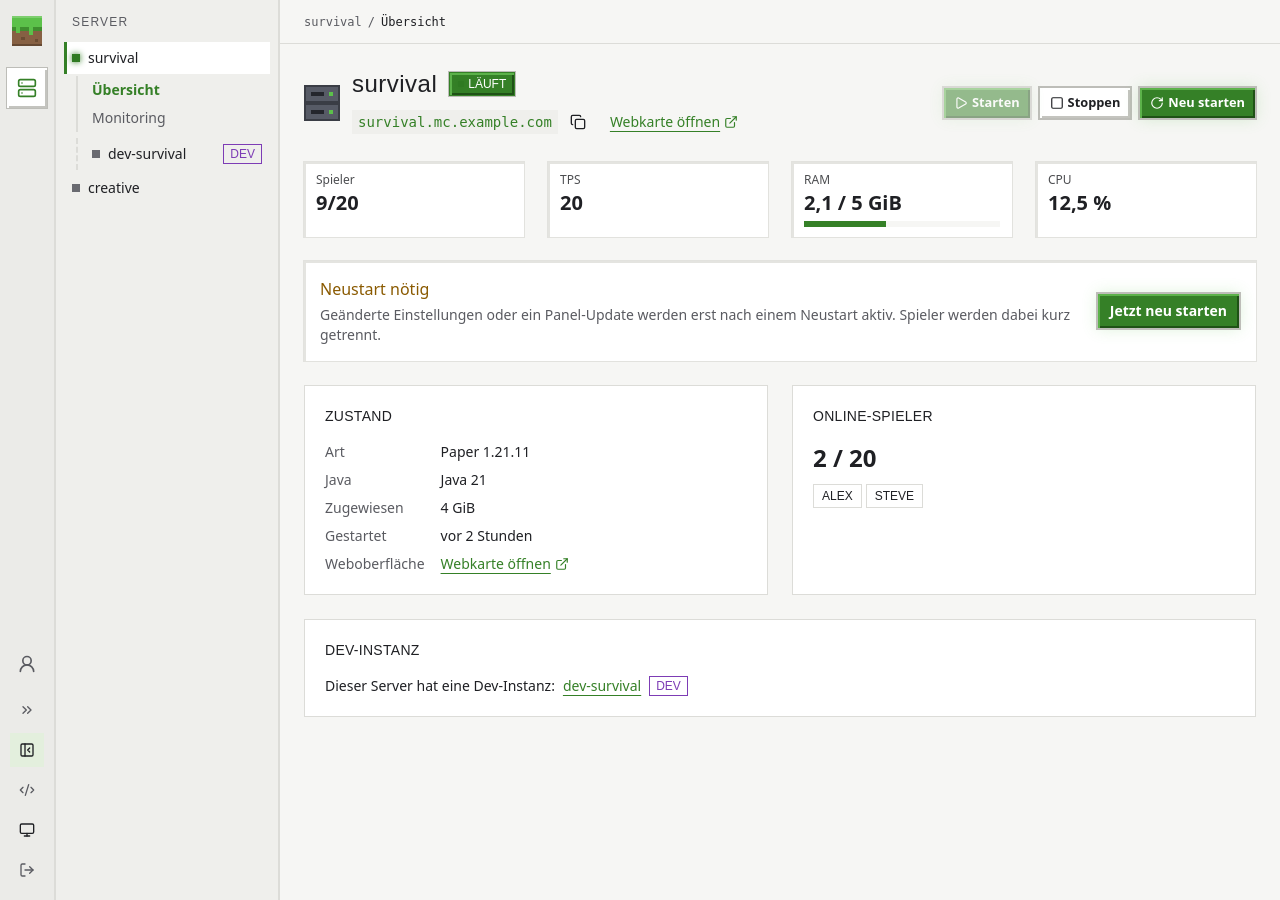
Test: ServerLayout › offers a restart while changes are pending and clears the banner afterwards
Expected: the text "Neustart nötig" is shown, [320, 278, 429, 300]
Click the button "Jetzt neu starten".
click(1168, 311)  # box [1097, 293, 1240, 329]
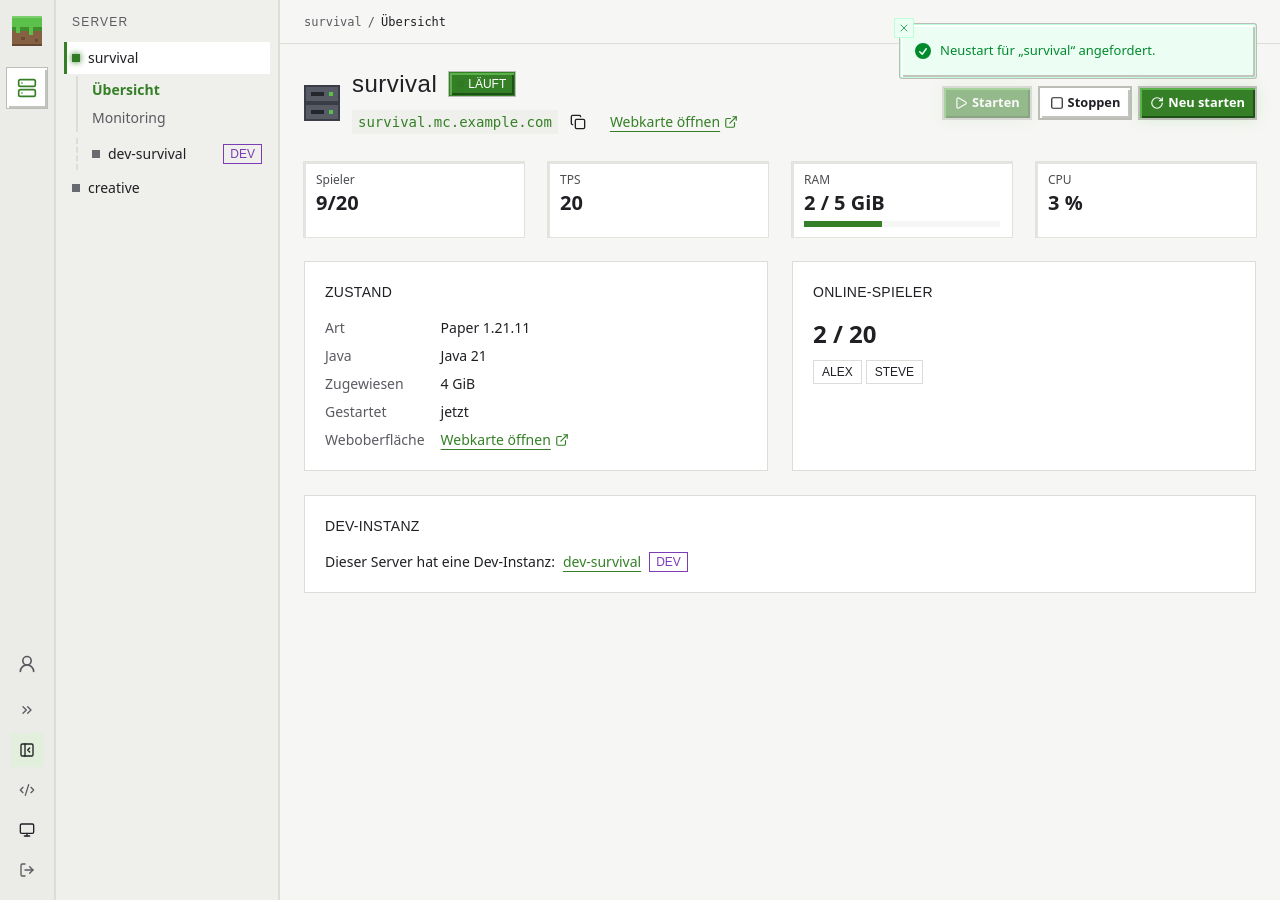
Now the text "Neustart für „survival“ angefordert." is shown, box [940, 41, 1155, 60]
Now the text "Neustart nötig" is gone
